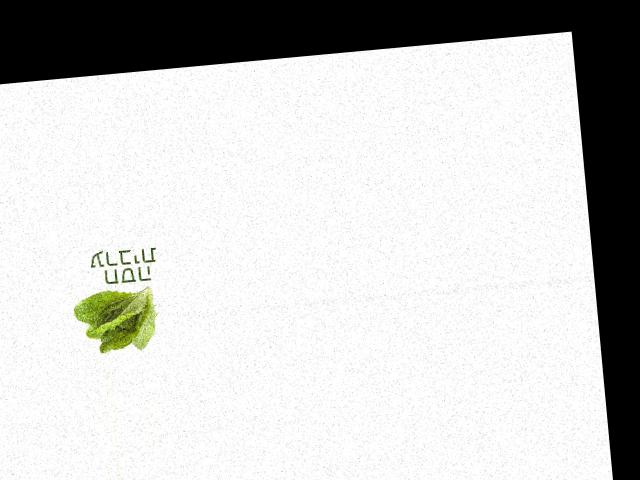lettuce: (70, 278, 164, 355)
